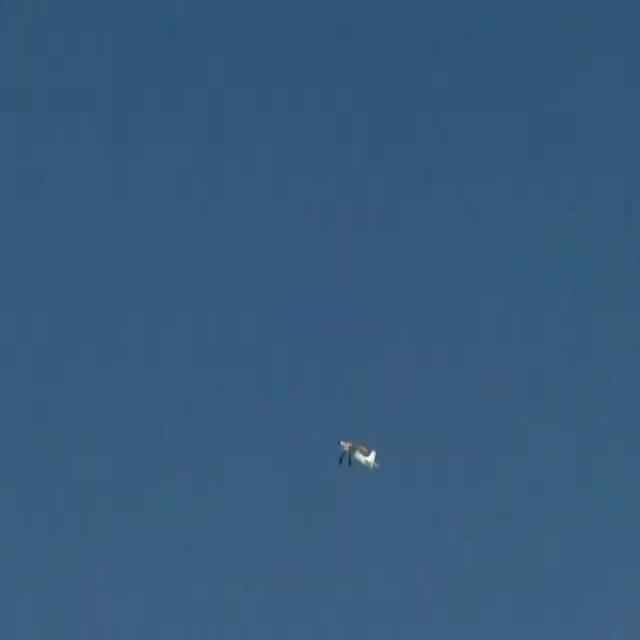iha: (337, 431, 381, 469)
